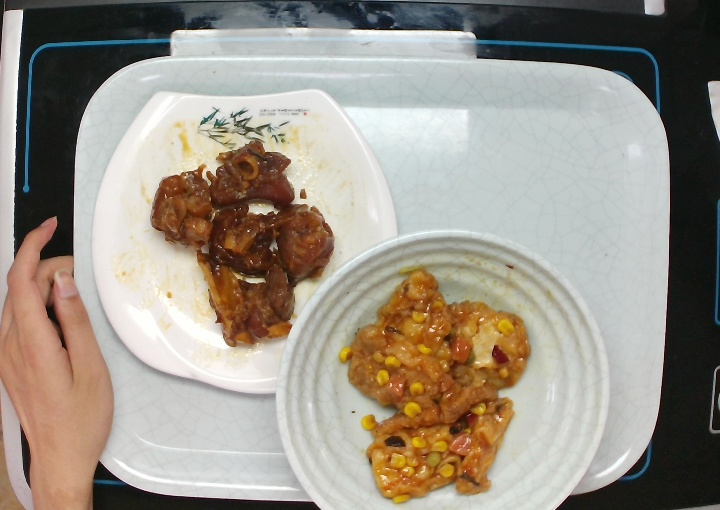JYsf-Da_Tang_Wan: (270, 225, 614, 510)
JYsf-Mian_Pan: (81, 78, 402, 409)
